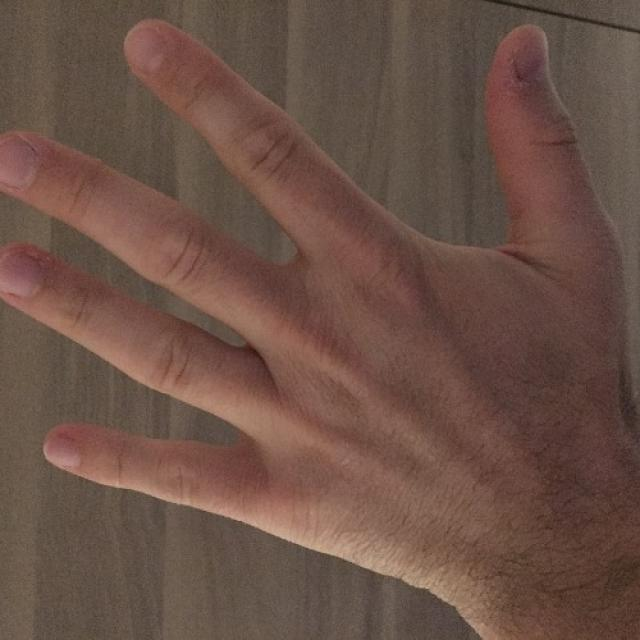paper: (2, 23, 624, 589)
